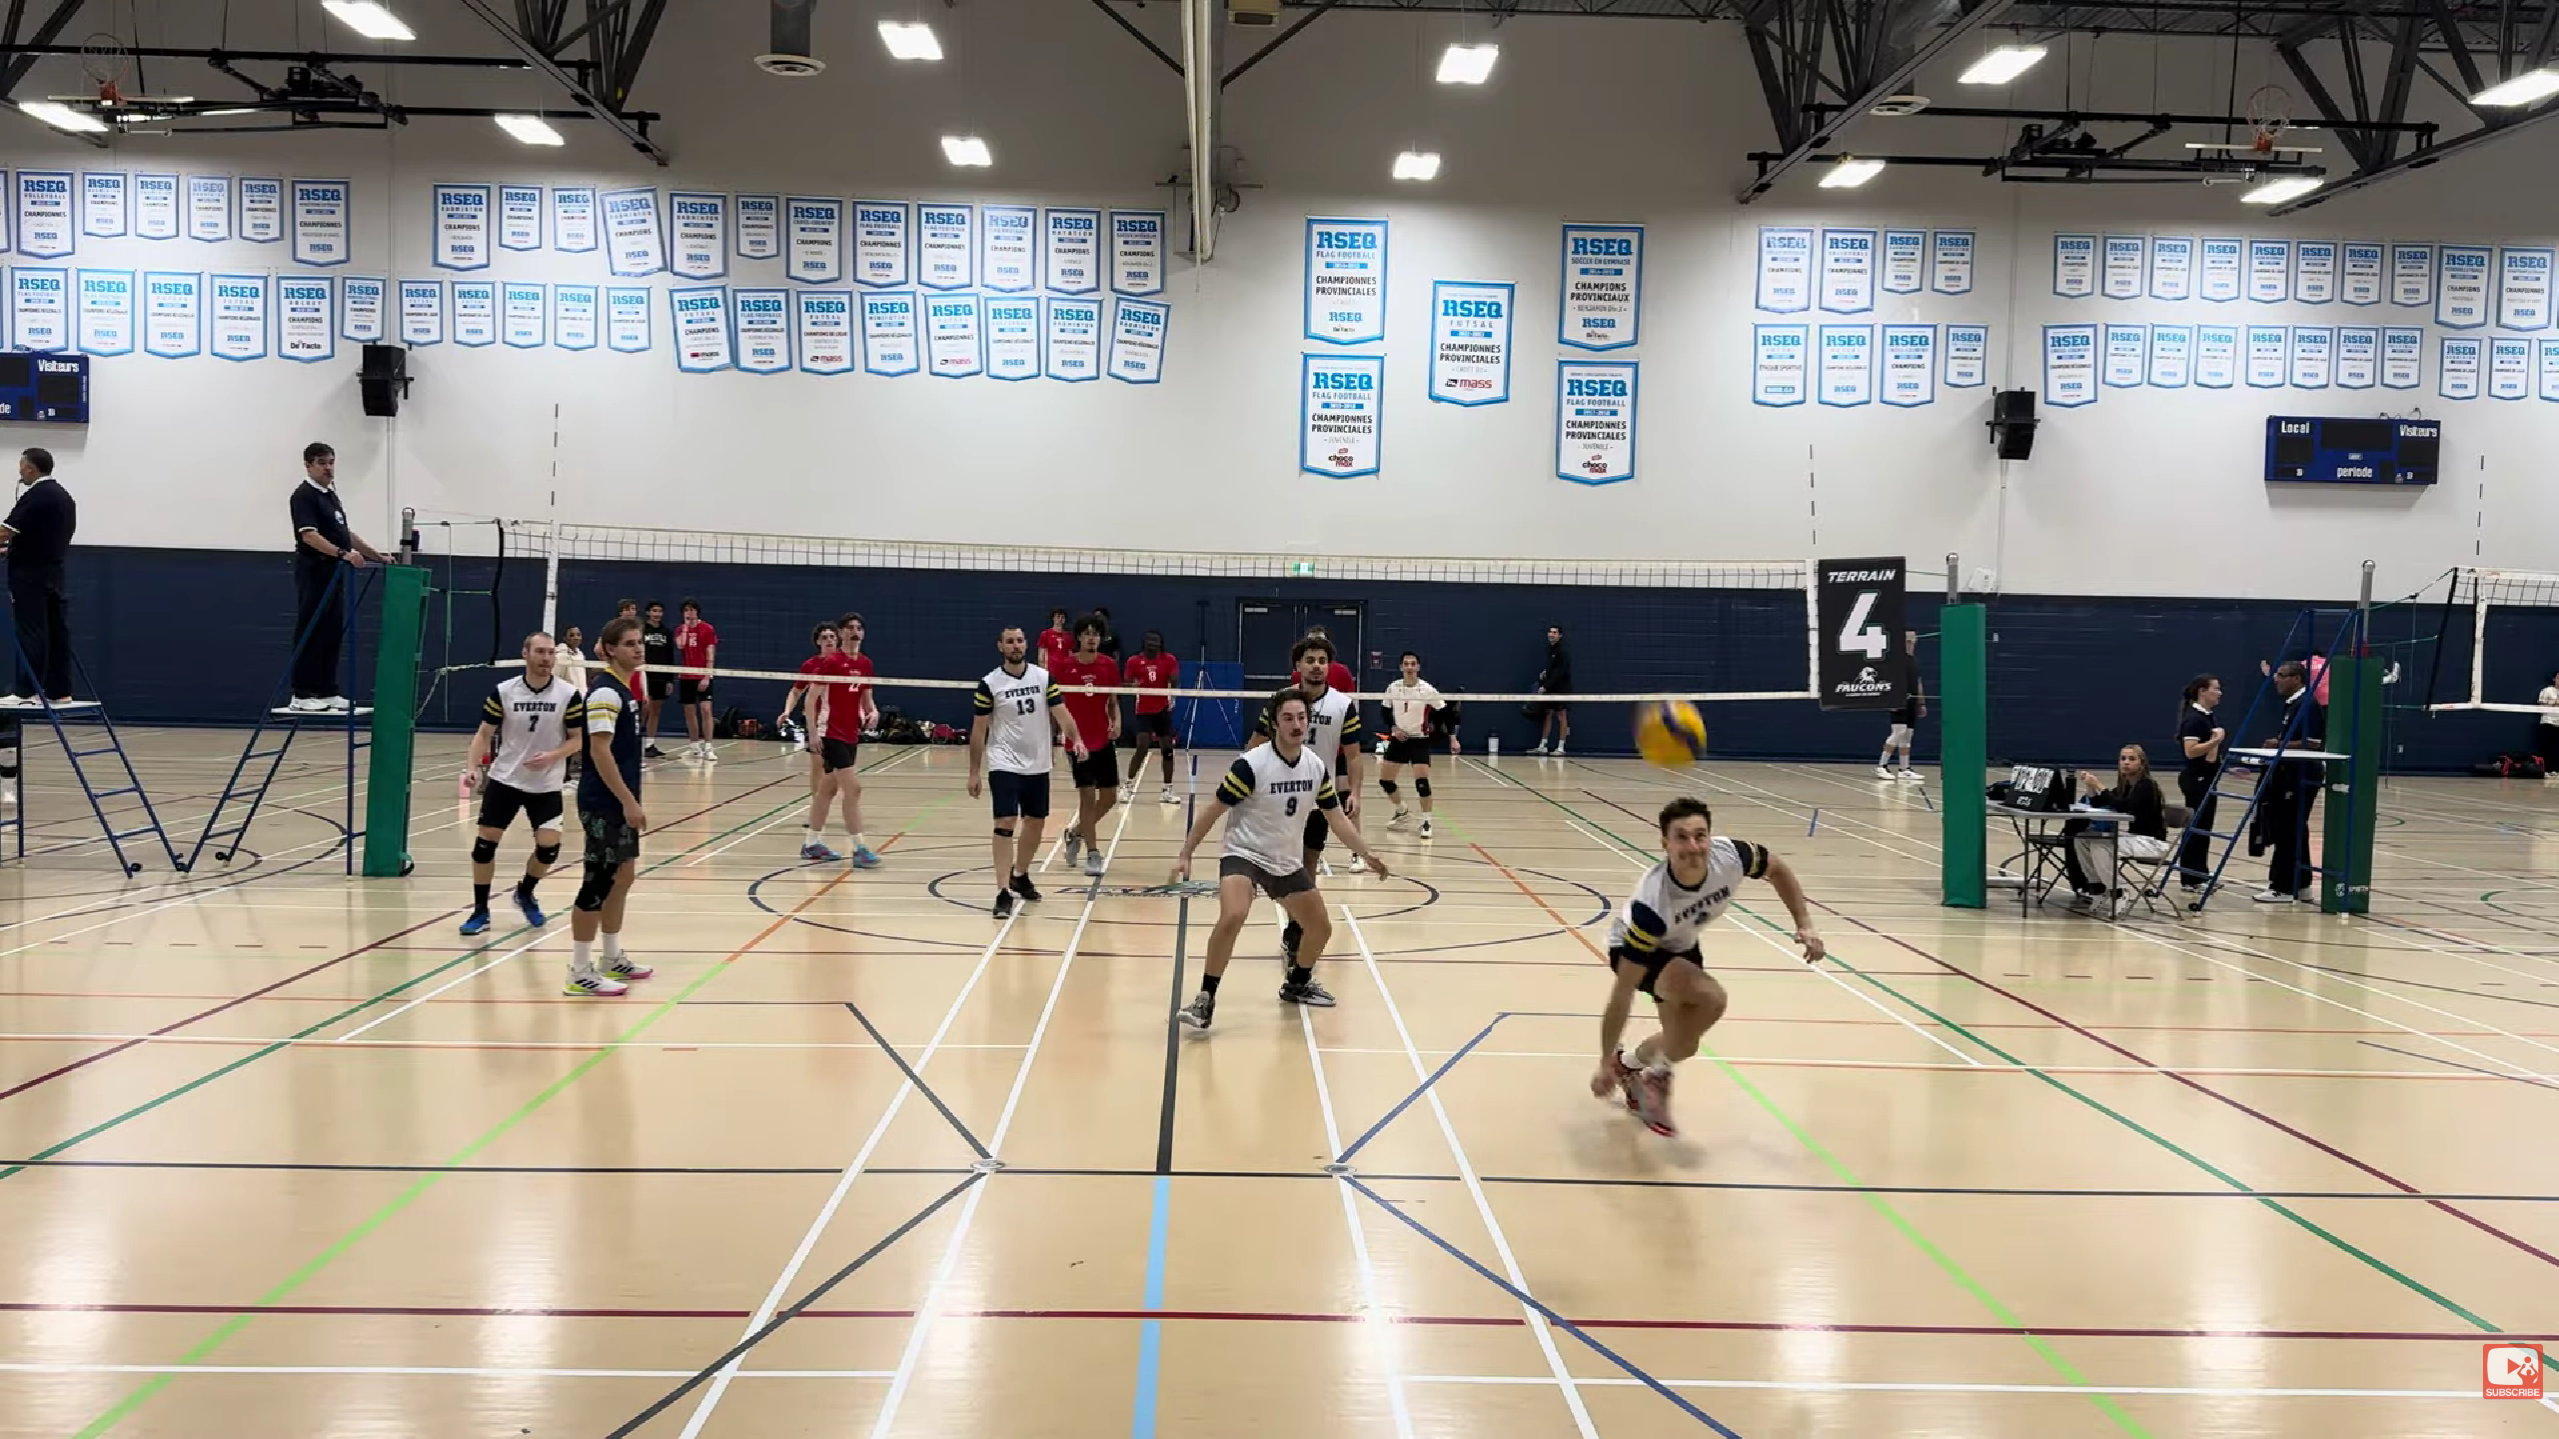Ball: (1631, 694, 1712, 773)
